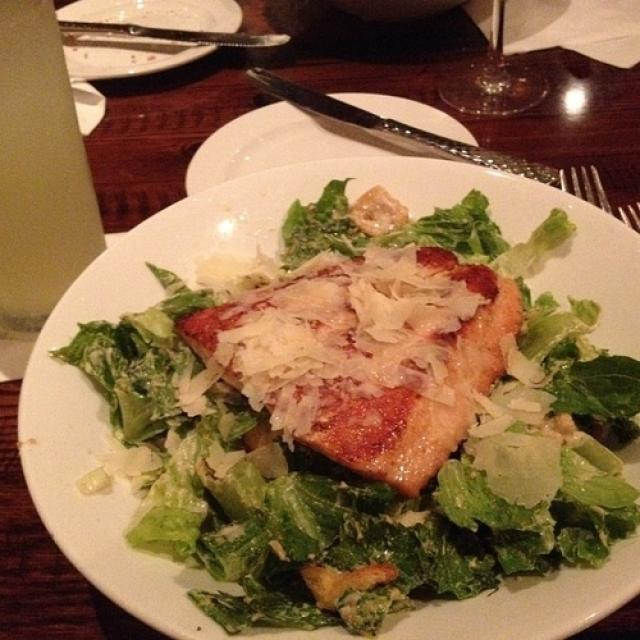蔬菜料理: (18, 141, 635, 631)
